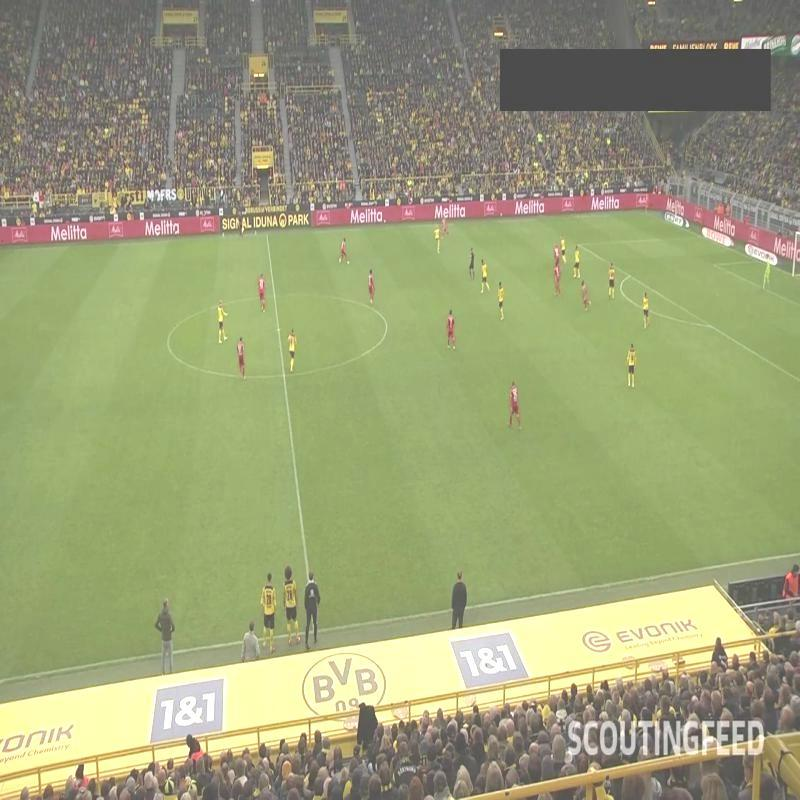1: (639, 206, 653, 219)
10: (622, 266, 636, 280)
11: (702, 318, 716, 332)
13: (260, 227, 274, 241)
14: (267, 288, 281, 301)
15: (277, 367, 291, 381)
16: (304, 616, 325, 644)
2: (696, 231, 710, 244)
3: (750, 254, 764, 268)
7: (708, 257, 722, 271)
9: (572, 238, 586, 252)
c: (160, 334, 176, 350), (379, 316, 393, 330)
